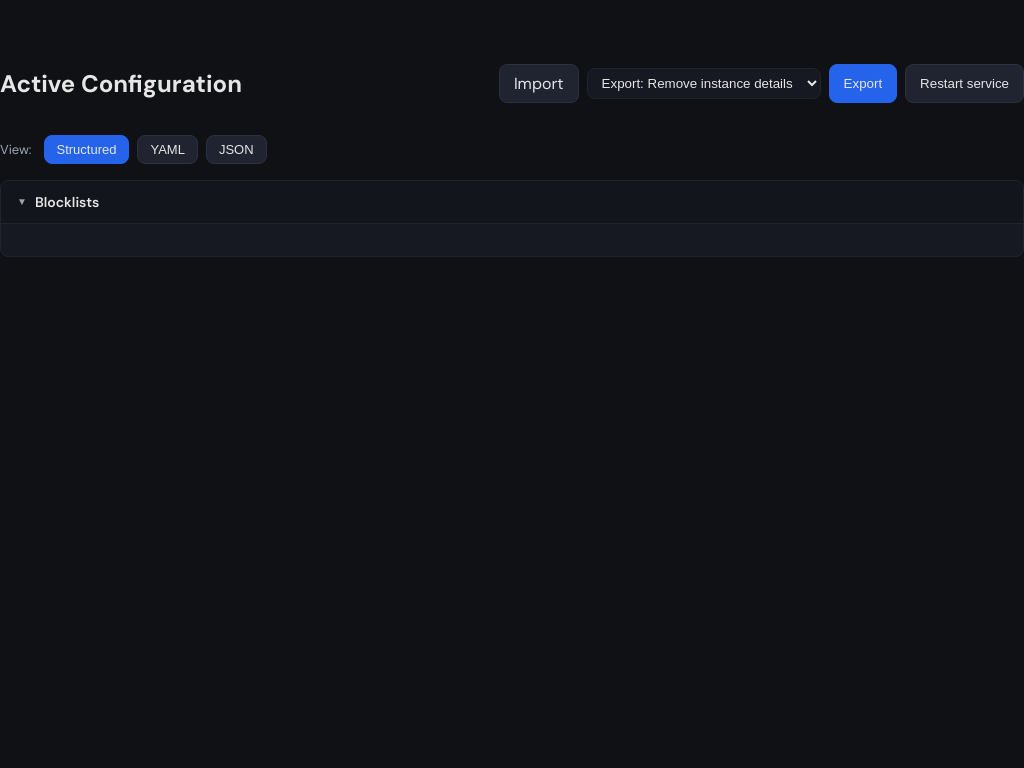
it: ConfigPage - end-to-end rendering › shows confirm dialog when Restart service is clicked
The width and height of the screenshot is (1024, 768).
Click the button "Restart service" at (965, 83), box left=905, top=64, right=1023, bottom=103
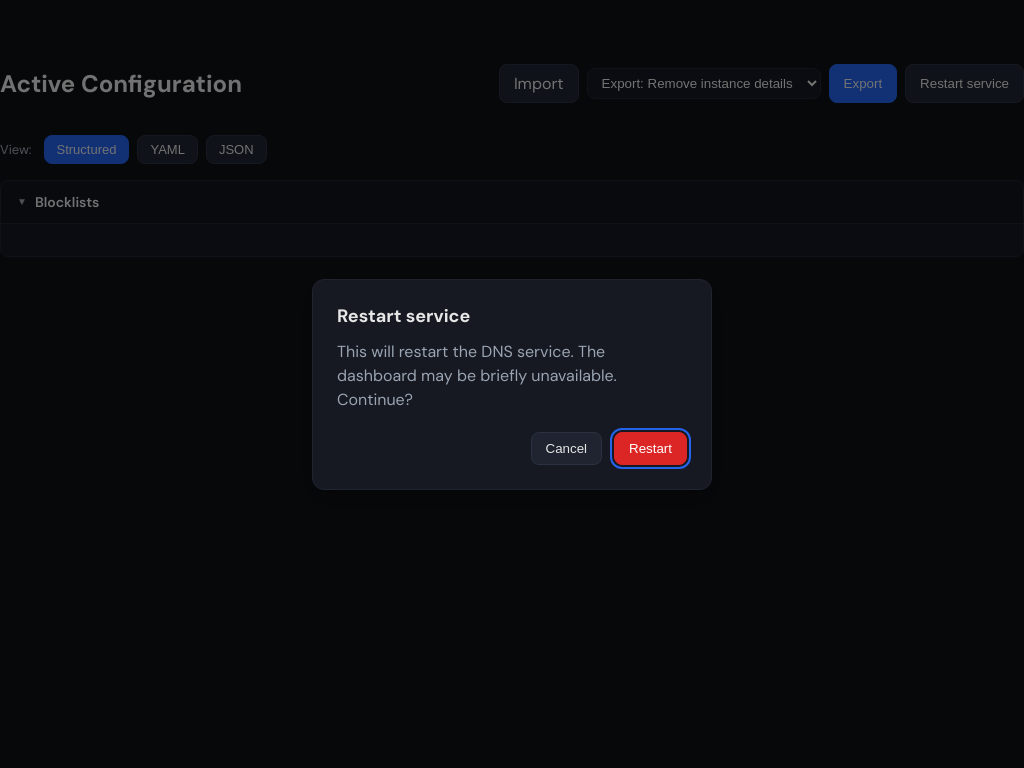
Expected: the dialog is shown
Expected: the dialog shows "Restart service", left=337, top=304, right=470, bottom=328
Expected: the dialog shows "restart the DNS service", left=337, top=340, right=617, bottom=410
